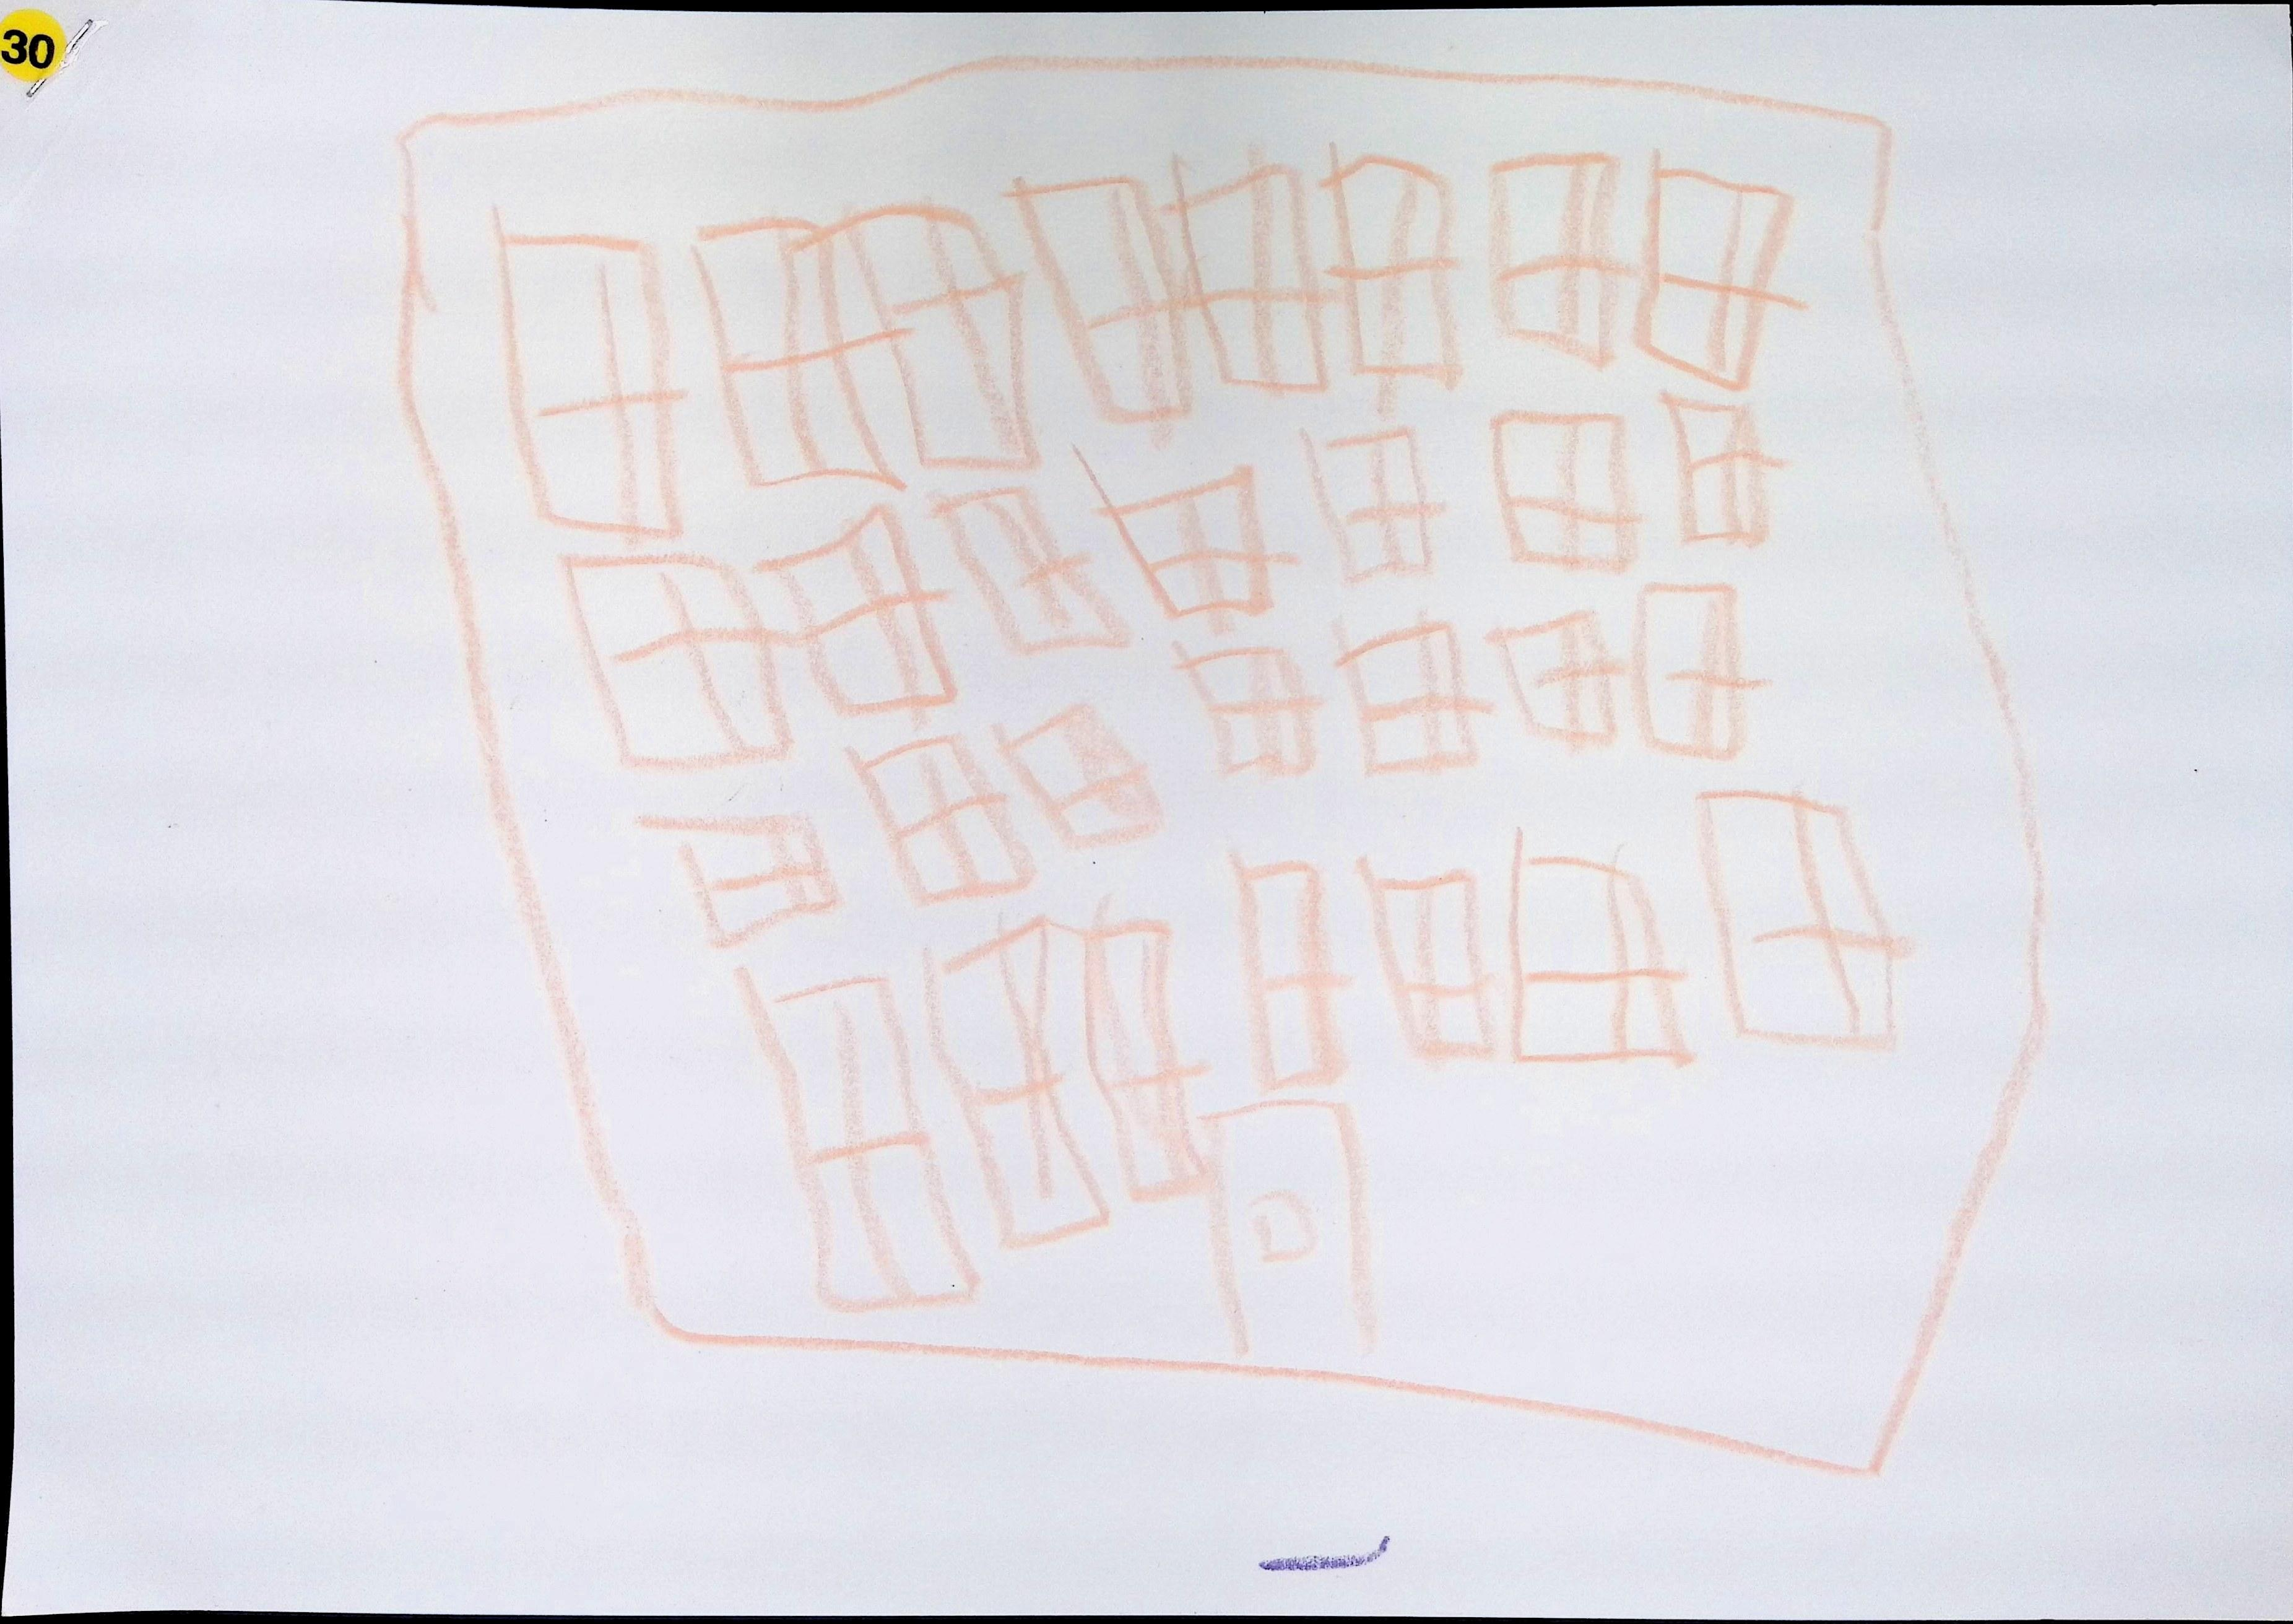door: (1203, 1101, 1377, 1368)
house: (375, 41, 2066, 1486)
wall: (390, 41, 2060, 1496)
window: (737, 970, 976, 1311), (927, 917, 1108, 1248), (687, 212, 901, 489), (497, 232, 678, 534), (847, 202, 1047, 468), (1703, 791, 1911, 1047), (564, 554, 789, 766), (1012, 174, 1191, 419), (757, 505, 954, 713), (1514, 831, 1690, 1062), (1639, 165, 1797, 386), (1174, 162, 1327, 388), (1086, 921, 1206, 1201), (934, 485, 1128, 652), (1322, 153, 1462, 384), (849, 737, 1034, 902), (1493, 150, 1631, 364), (1236, 860, 1351, 1092), (1361, 861, 1496, 1058), (1102, 465, 1273, 615), (995, 703, 1161, 847), (1495, 410, 1640, 569), (1339, 622, 1491, 773), (1636, 583, 1762, 757), (670, 815, 838, 945), (1304, 425, 1444, 581), (1663, 392, 1788, 544), (1179, 646, 1322, 774), (1491, 612, 1626, 745)
